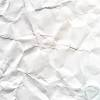crumpled paper: (4, 4, 100, 93)
